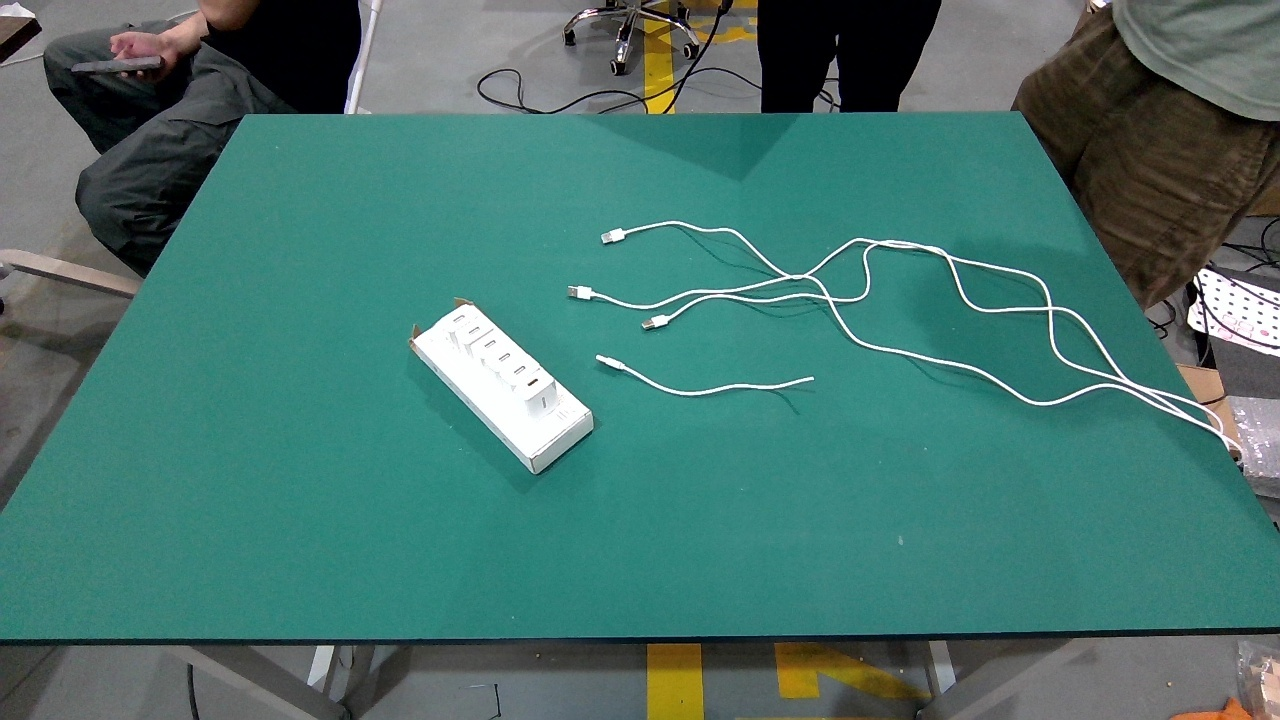usb_a_plug: (594, 352, 633, 375), (640, 309, 680, 331), (600, 224, 634, 246), (567, 284, 602, 302)
